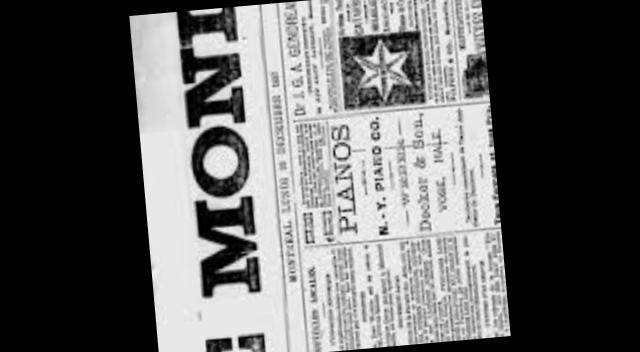cardboard paper: (139, 0, 511, 352)
